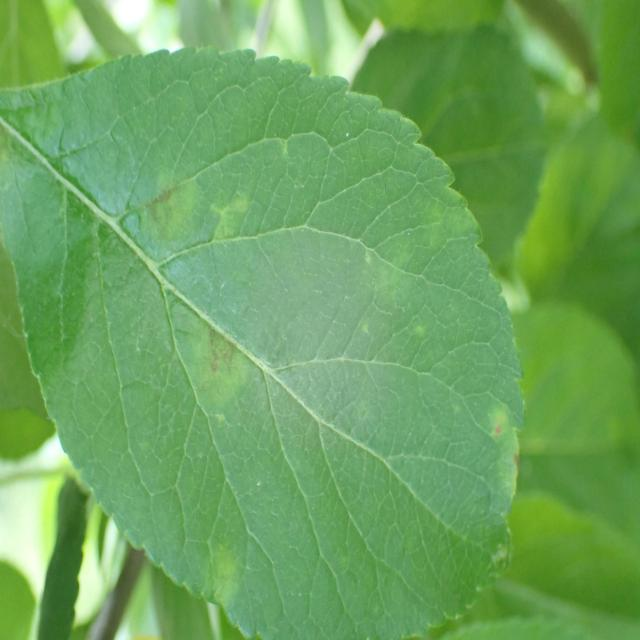scab: (110, 99, 523, 616)
